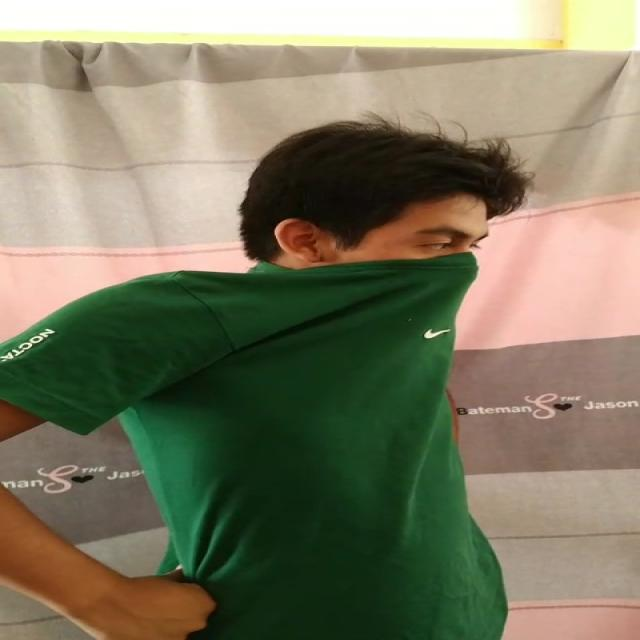8_ropa_rostro: (247, 248, 485, 338)
